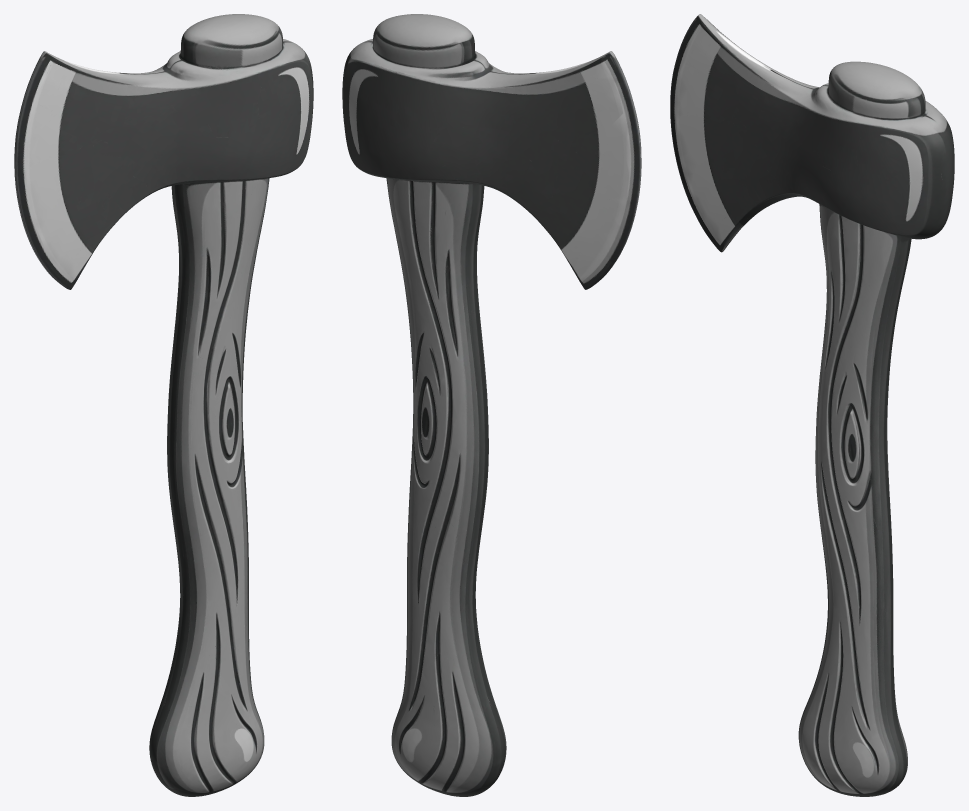
The model's file is Axe_compressed.glb.
3 renders of one model, left to right at view 1: azimuth 30°, elevation 25°; view 2: azimuth 150°, elevation 25°; view 3: azimuth 330°, elevation 25°, orthographic. The views are drawn at different scales.
Parts seen in each view (by area): view 1: mesh_0; view 2: mesh_0; view 3: mesh_0.
Boxes of the visible parts, <box> form: mesh_0: <box>14,14,313,796</box>; mesh_0: <box>342,14,641,796</box>; mesh_0: <box>670,14,954,796</box>.
Size of the model in its own units: 0.7507 by 1.9 by 0.2124.
1 material, 1 textured.
